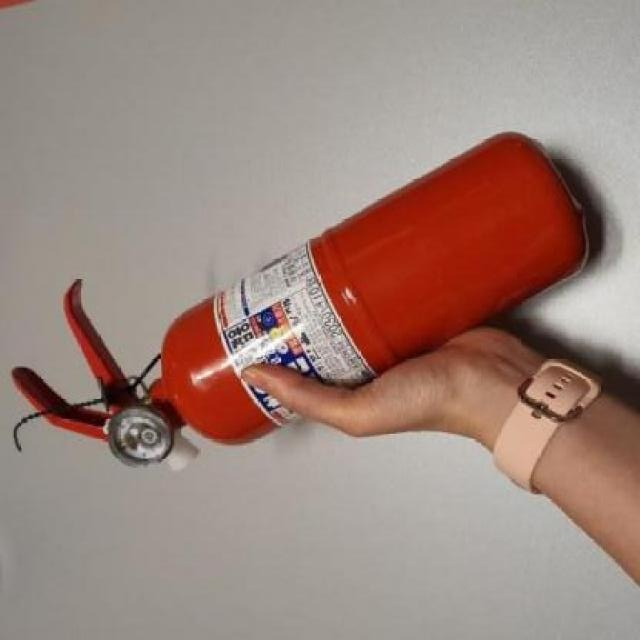fire extinguisher: (12, 130, 590, 473)
